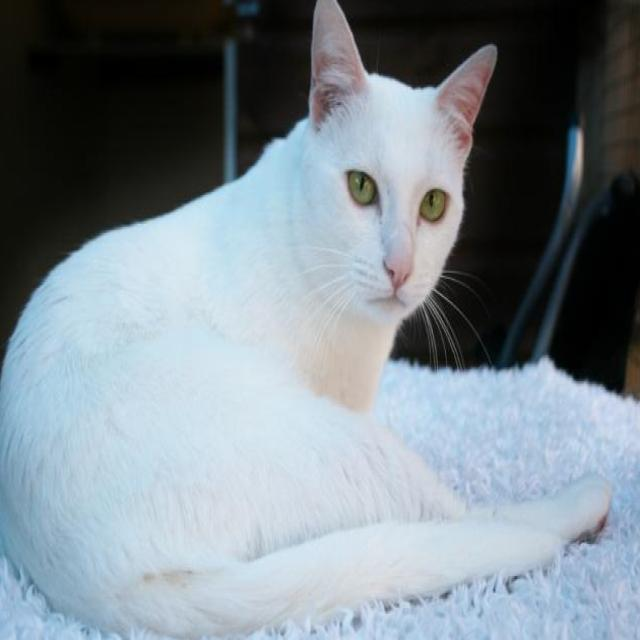Khao Manee: (0, 0, 614, 640)
